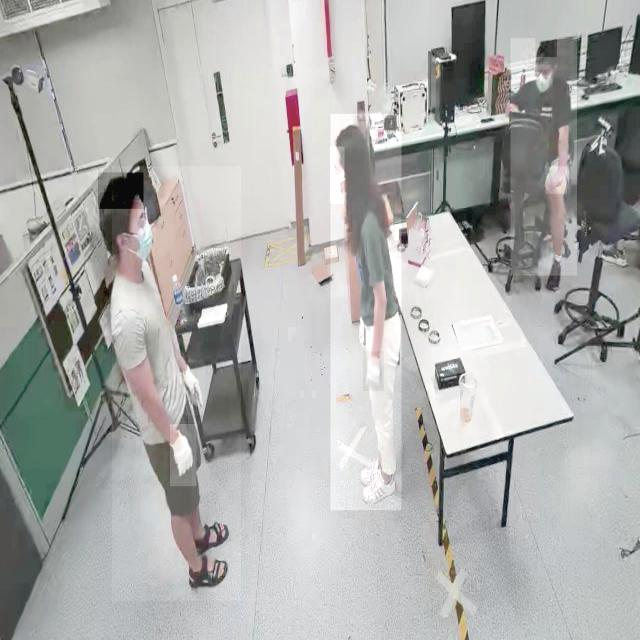face_mask: (130, 200, 156, 266), (530, 58, 554, 101), (330, 146, 344, 204)
hand_glove: (170, 424, 197, 487), (183, 360, 205, 416), (362, 351, 384, 392)
hand_noglove: (545, 166, 567, 195)
head_nohelmet: (98, 172, 144, 210), (334, 122, 370, 149), (535, 38, 557, 58)
person: (111, 166, 241, 602), (330, 114, 402, 511), (510, 38, 577, 276)
shoes: (362, 466, 398, 506), (359, 456, 388, 485)
